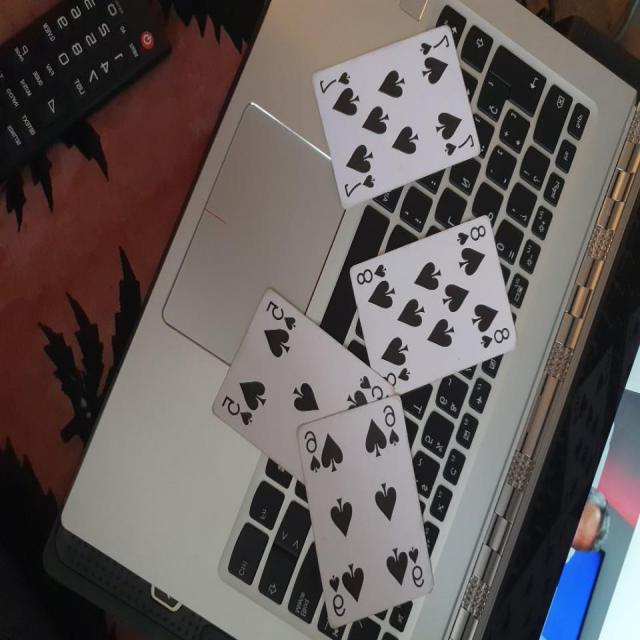5 of spades: (210, 280, 400, 494)
6 of spades: (277, 401, 443, 628)
7 of spades: (305, 23, 483, 211)
8 of spades: (349, 204, 514, 410)
